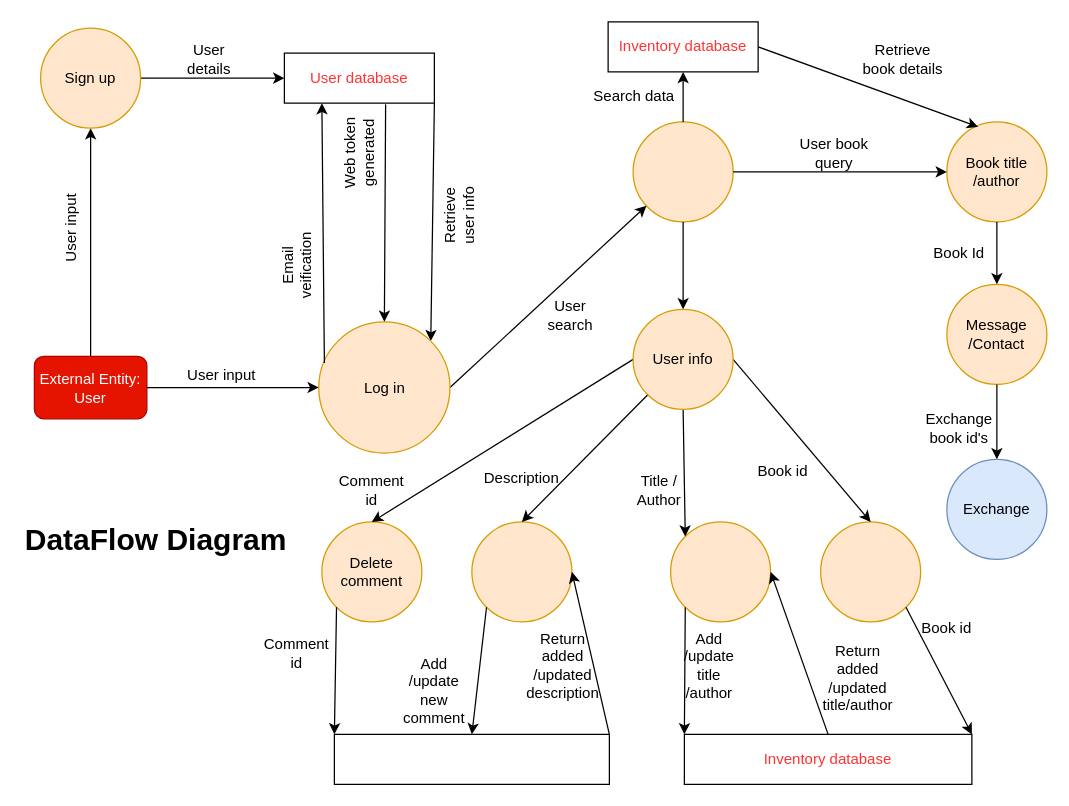
Image size: 1069x806. Some labels were removed from this diagram. Each missing label, with the centre of its shape:
Add / update book: the point at 720,571
Add / update comment: the point at 521,571
Comments database: the point at 471,758
Delete book id: the point at 870,571
Search book title / author: the point at 682,171
